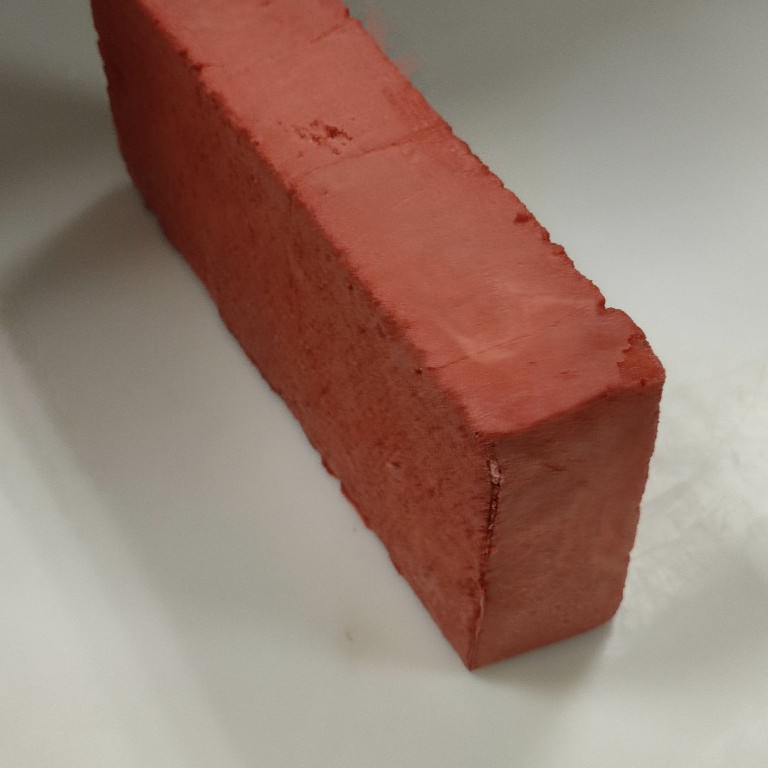brick: (85, 1, 668, 675)
